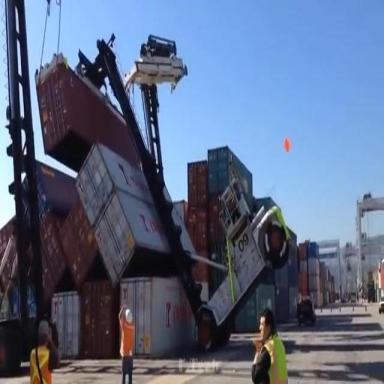forklift: (165, 171, 290, 351)
